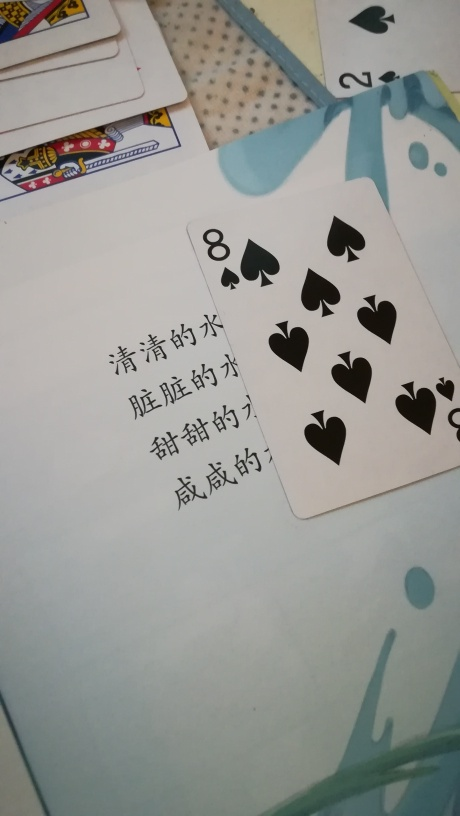ht 8: (182, 174, 460, 520)
